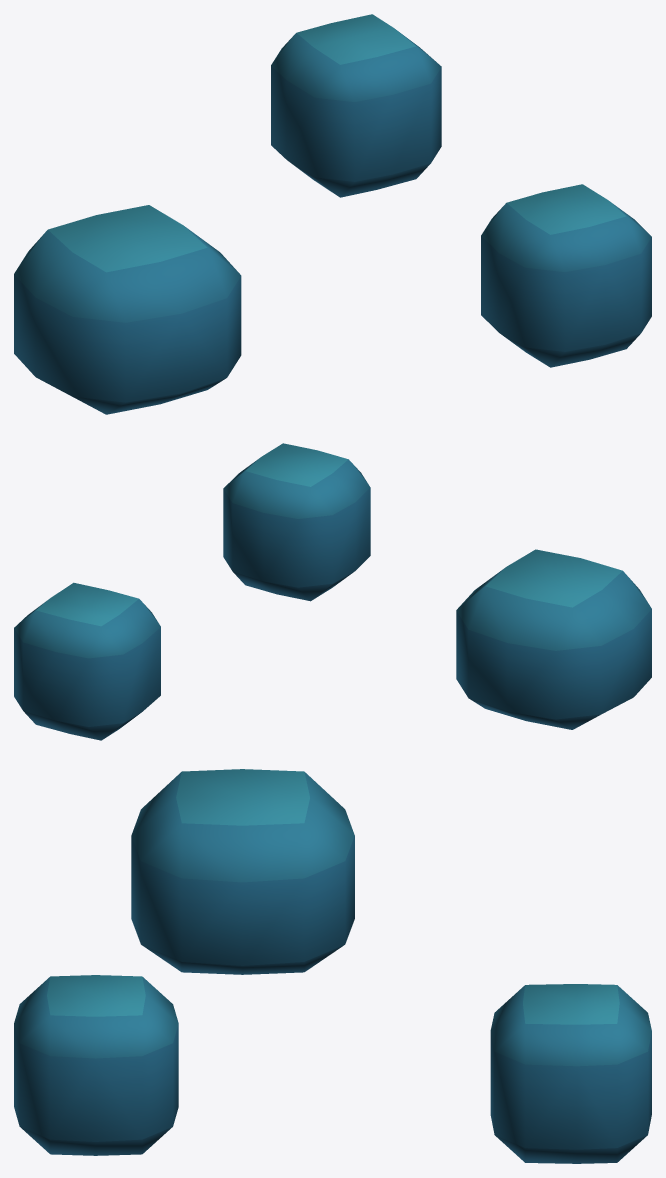
The model's file is Pebbles_Ice_1.fbx.
3 renders of one model, top to bottom at view 1: azimuth 30°, elevation 25°; view 2: azimuth 150°, elevation 25°; view 3: azimuth 270°, elevation 25°, orthographic. The views are drawn at different scales.
Visible parts, largest first — view 1: Pebbles_Ice_1_LOD0; view 2: Pebbles_Ice_1_LOD0; view 3: Pebbles_Ice_1_LOD0.
Boxes of the visible parts, x1,y1,x2,y2 form: Pebbles_Ice_1_LOD0: (14, 14, 651, 414); Pebbles_Ice_1_LOD0: (14, 443, 651, 740); Pebbles_Ice_1_LOD0: (14, 769, 651, 1163).
Size of what is drawn, in the model's own units: 0.5696 by 0.1424 by 0.5519.
